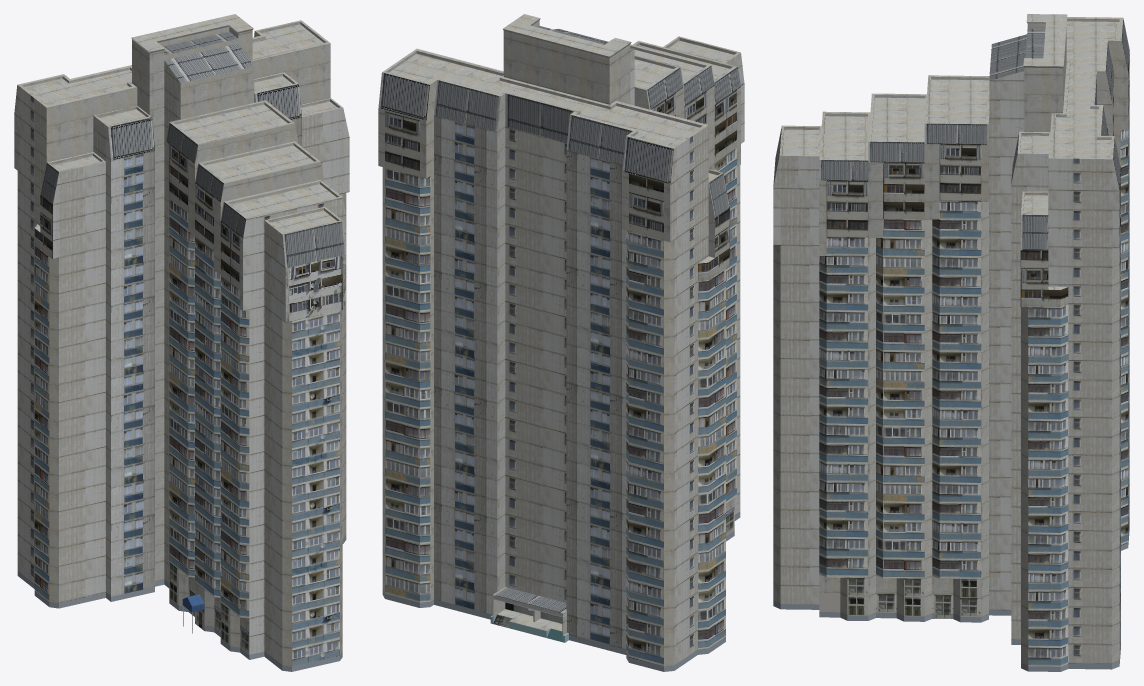
3 views of the same model, side by side, from view 1: azimuth 30°, elevation 25°; view 2: azimuth 150°, elevation 25°; view 3: azimuth 270°, elevation 25° (orthographic). The views are drawn at different scales.
Parts seen in each view (by area): view 1: SketchUp; view 2: SketchUp; view 3: SketchUp.
Part boxes in pixels (box(x1,y1,x2,y2)): SketchUp: box(14, 14, 349, 671); SketchUp: box(378, 14, 744, 671); SketchUp: box(773, 14, 1129, 671).
Size of the model in its own units: 1857 by 3252 by 1885.
19 materials, 15 textured.
